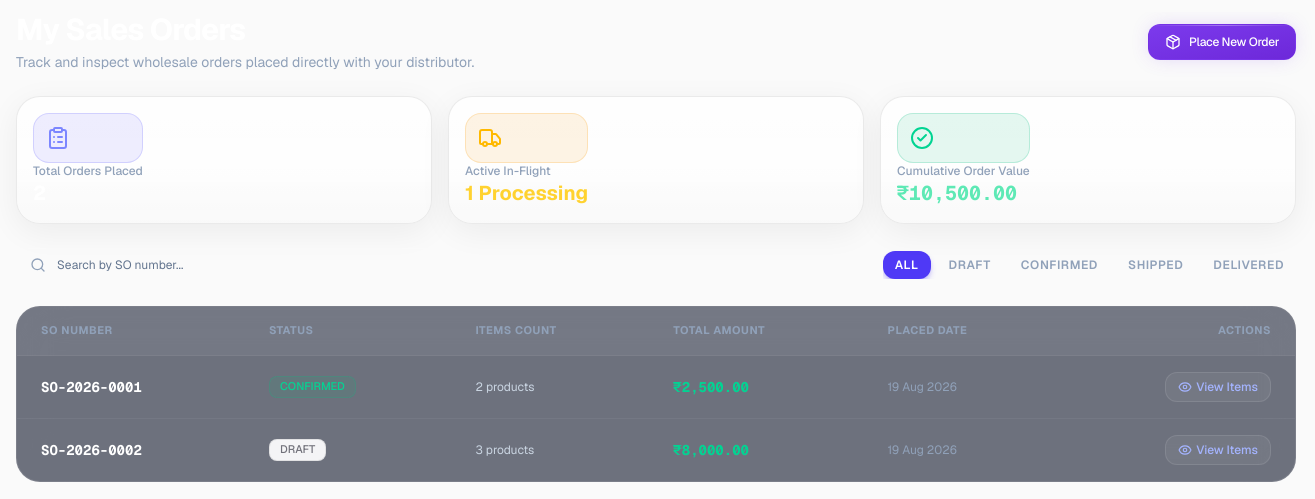
Test: Portal Orders Page (app/portal/orders/page.tsx) › should render list of orders and allow filtering
Expected: the text "SO-2026-0001" is shown, [17,355,245,418]
Expected: the text "SO-2026-0002" is shown, [17,418,245,481]
Test Search filter
Type "0001" into the field with placeholder "Search by SO number...".
click(240, 265); type("0001")  # box [16,248,464,282]
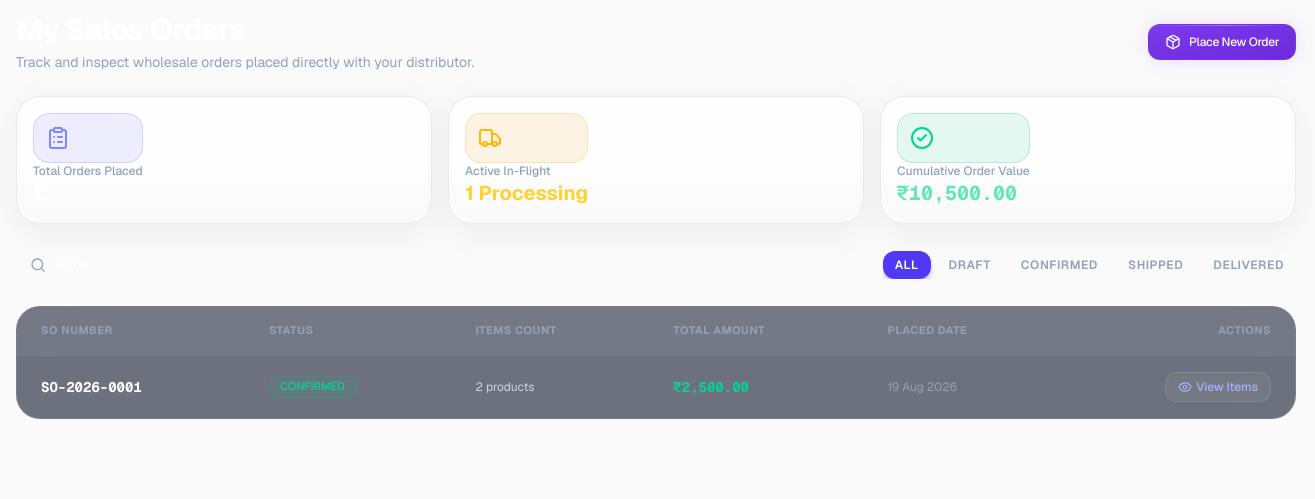
Expected: the text "SO-2026-0001" is shown, [17,355,245,418]
Expected: the text "SO-2026-0002" is gone
